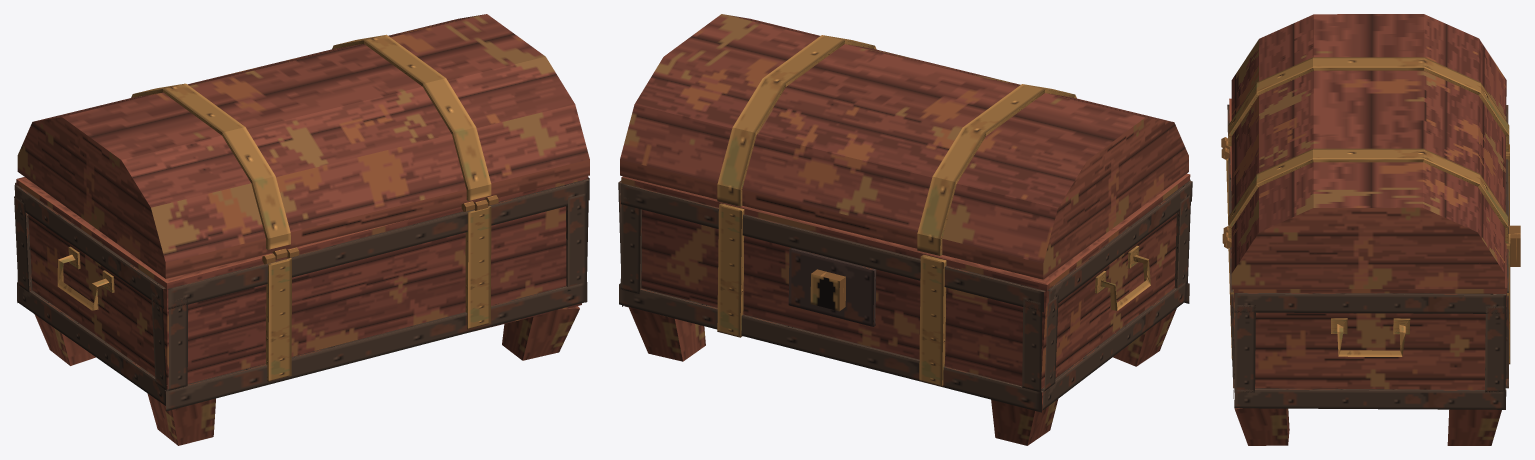
File: SM_CH04_Rich.fbx
The picture shows the model from 3 angles, left to right: view 1: azimuth 30°, elevation 25°; view 2: azimuth 150°, elevation 25°; view 3: azimuth 270°, elevation 25°; orthographic projection. The views are drawn at different scales.
Parts seen in each view (by area): view 1: CH04_Lid, CH04_Body; view 2: CH04_Lid, CH04_Body; view 3: CH04_Lid, CH04_Body.
Part boxes in pixels (<box>): CH04_Lid: <box>17,14,589,278</box>; CH04_Body: <box>14,176,589,445</box>; CH04_Lid: <box>620,14,1188,279</box>; CH04_Body: <box>618,173,1192,445</box>; CH04_Lid: <box>1222,14,1509,289</box>; CH04_Body: <box>1221,98,1520,445</box>.
Size of the model in its own units: 1.2 by 0.6711 by 0.7259.
